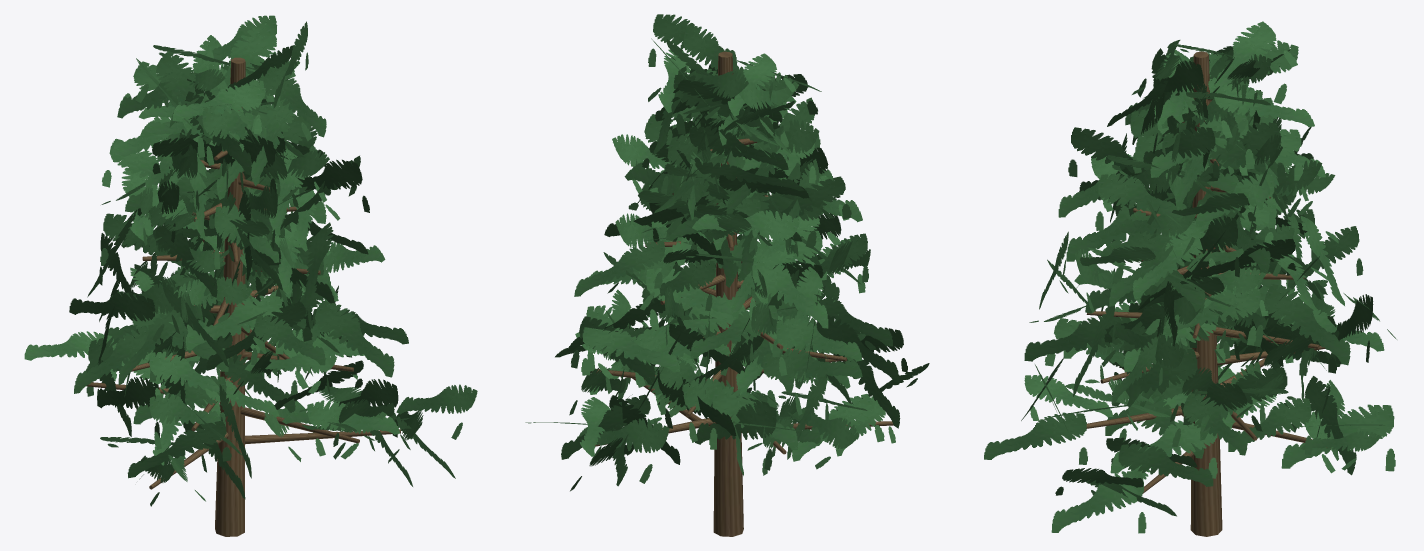
The picture shows the model from 3 angles, left to right: view 1: azimuth 30°, elevation 25°; view 2: azimuth 150°, elevation 25°; view 3: azimuth 270°, elevation 25°; orthographic projection.
Parts seen in each view (by area): view 1: pine-needle, pine-bark; view 2: pine-needle, pine-bark; view 3: pine-needle, pine-bark.
Boxes of the visible parts, x1,y1,x2,y2 form: pine-needle: [24, 15, 477, 506]; pine-bark: [86, 57, 400, 536]; pine-needle: [525, 14, 929, 491]; pine-bark: [591, 51, 893, 536]; pine-needle: [984, 21, 1396, 533]; pine-bark: [1086, 51, 1330, 536].
Bounding box in the file's own units: 7.89 × 10.52 × 8.3.
Materials: 2 (2 with a texture image).
